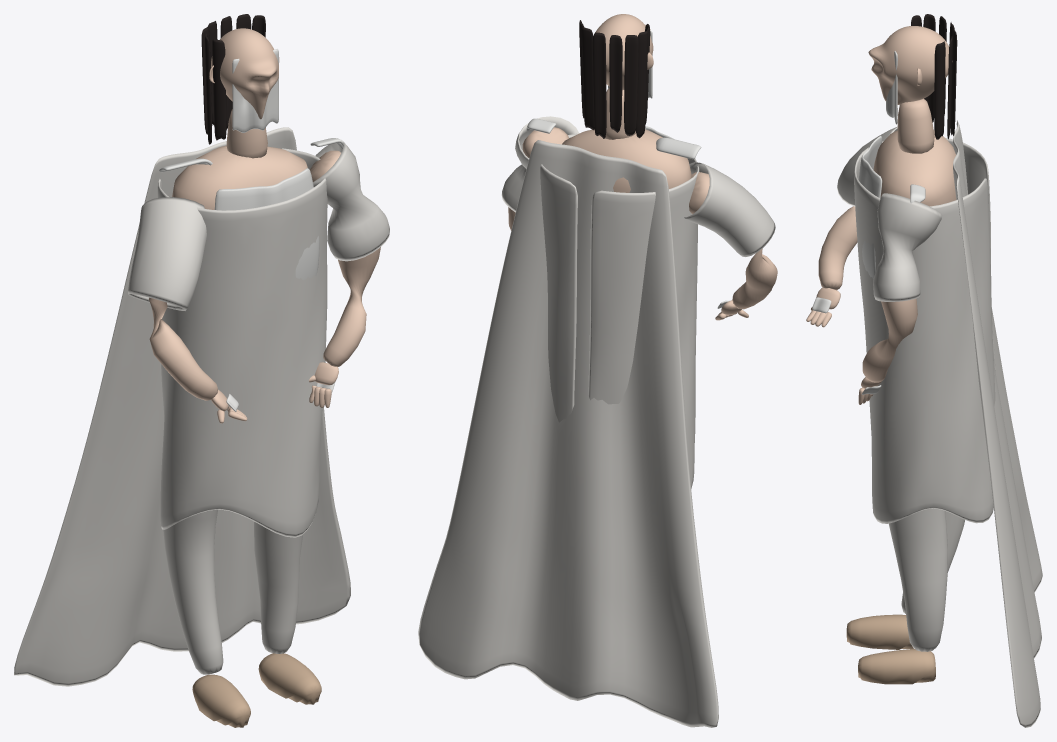
File: foundry_ruler.glb
3 renders of one model, left to right at view 1: azimuth 30°, elevation 25°; view 2: azimuth 150°, elevation 25°; view 3: azimuth 270°, elevation 25°, orthographic. The views are drawn at different scales.
Parts seen in each view (by area): view 1: Cape, Robe, SleeveR, LegR, SleeveL, LegL, Body, Head, ArmL, Plate, ArmR, BootL (+4 smaller); view 2: Cape, Robe, SleeveR, Body, ArmR, Hair2, SleeveL, Hair4, Head, Hair3, Hair1, Hair5 (+2 smaller); view 3: Robe, Cape, LegL, SleeveL, Body, Head, BootL, ArmL, ArmR, BootR, Neck, Plate (+6 smaller).
Part boxes in pixels (box(x1,y1,x2,y2)): Cape: box(14, 127, 350, 686); Robe: box(157, 148, 327, 537); SleeveR: box(128, 197, 206, 310); LegR: box(163, 509, 223, 674); SleeveL: box(313, 142, 389, 261); LegL: box(254, 521, 303, 653); Body: box(172, 145, 307, 209); Head: box(211, 28, 278, 119); ArmL: box(310, 150, 380, 366); Plate: box(214, 168, 319, 279); ArmR: box(149, 297, 217, 400); BootL: box(258, 653, 321, 704); Cape: box(418, 140, 718, 727); Robe: box(540, 133, 699, 488); SleeveR: box(684, 162, 775, 256); Body: box(562, 129, 691, 192); ArmR: box(689, 172, 777, 309); Hair2: box(592, 32, 606, 138); SleeveL: box(501, 116, 579, 212); Hair4: box(624, 35, 638, 135); Head: box(595, 14, 653, 90); Hair3: box(609, 35, 622, 132); Hair1: box(581, 27, 594, 130); Hair5: box(635, 30, 647, 138); Robe: box(854, 138, 995, 523); Cape: box(953, 120, 1042, 727); LegL: box(889, 508, 947, 651); SleeveL: box(873, 193, 942, 301); Body: box(873, 130, 956, 206); Head: box(868, 26, 952, 104); BootL: box(858, 649, 935, 684); ArmL: box(862, 298, 917, 382); ArmR: box(818, 206, 857, 290); BootR: box(846, 614, 913, 649); Neck: box(897, 98, 934, 153); Plate: box(858, 136, 882, 279).
Size of the model in its own units: 0.9677 by 1.9 by 0.6374.
